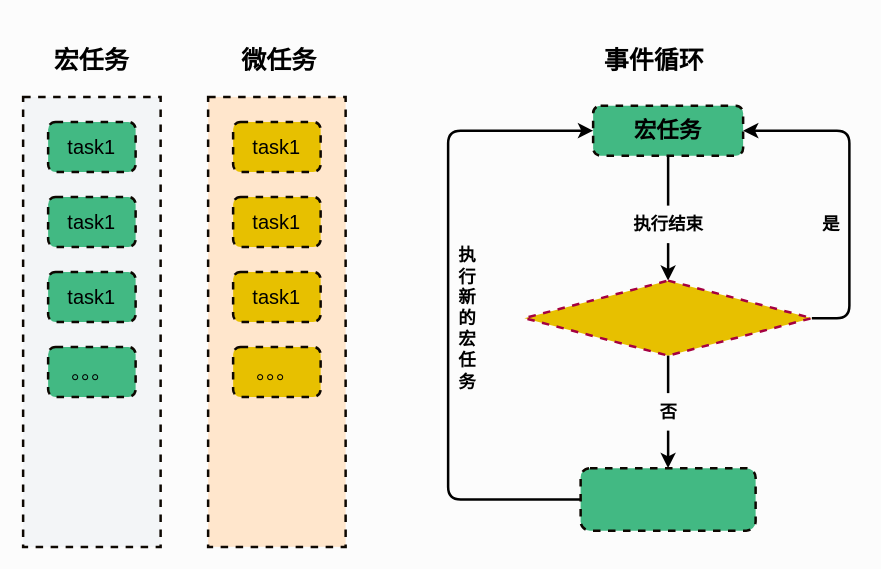
Some shapes in this 881 by 569 pixel diagram are drawn without their labels. The shapes that lost their labels are listed below. From the top down, each one's centre as x and y in pixels, then its label:
At point 667,317: "微任务队列是否为空".
At point 667,498: "依次执行 所有微任务".
